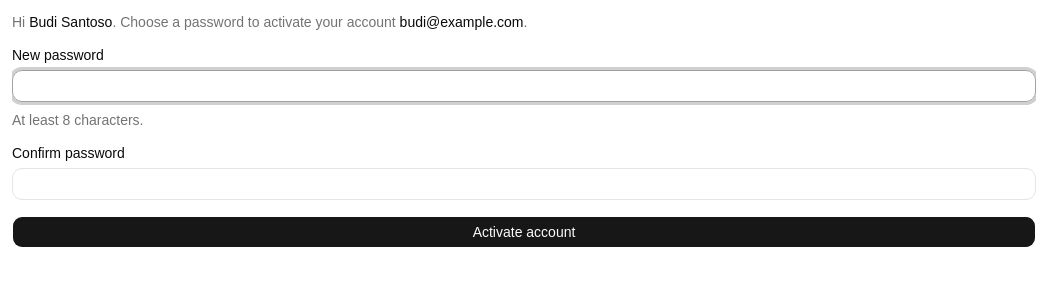
it: SetPasswordForm › activates the account and then offers the sign-in links
Expected: the text "budi@example.com" is shown, top-left (400, 14), bottom-right (524, 30)
Type "BrandNew123!" into the password field labelled "New password".
click(524, 86); type("BrandNew123!")  # box top-left (12, 70), bottom-right (1036, 102)
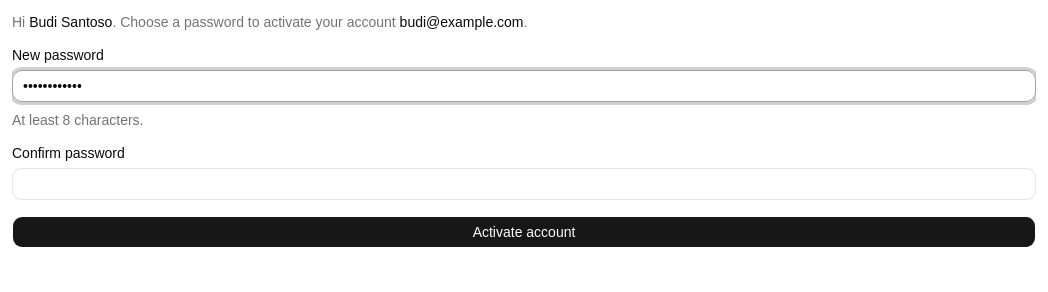
Type "Different123!" into the password field labelled "Confirm password".
click(524, 184); type("Different123!")  # box top-left (12, 168), bottom-right (1036, 200)
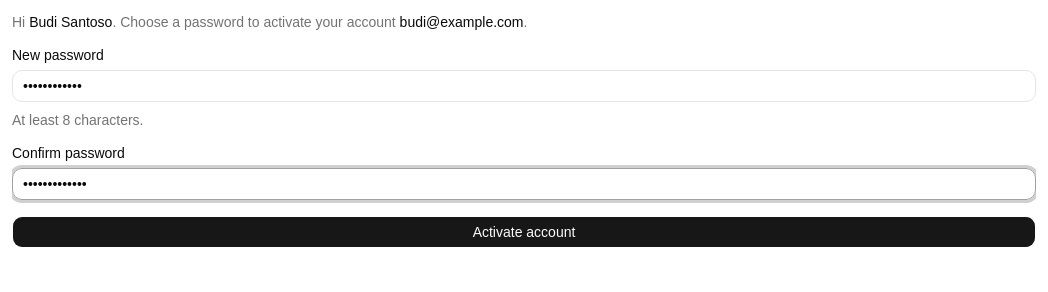
Click the button "Activate account".
click(524, 232)  # box top-left (12, 216), bottom-right (1036, 248)
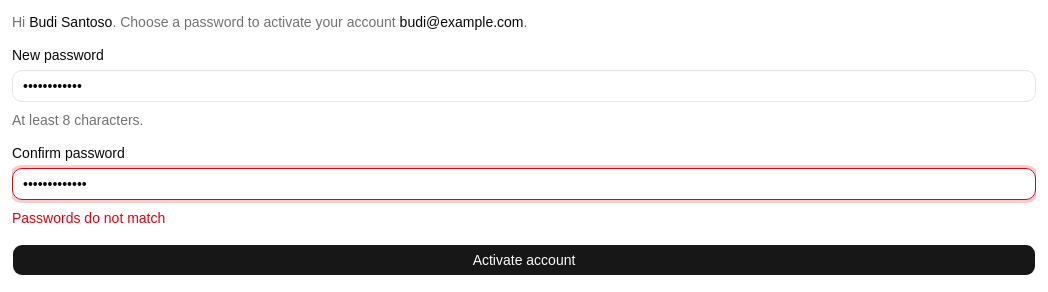
Expected: the text "Passwords do not match" is shown, top-left (12, 210), bottom-right (165, 226)
Type "BrandNew123!" into the password field labelled "Confirm password".
click(524, 184); type("BrandNew123!")  # box top-left (12, 168), bottom-right (1036, 200)
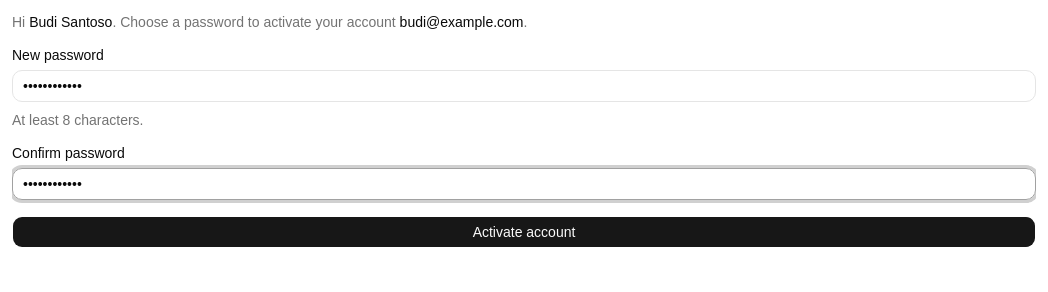
Click the button "Activate account".
click(524, 232)  # box top-left (12, 216), bottom-right (1036, 248)
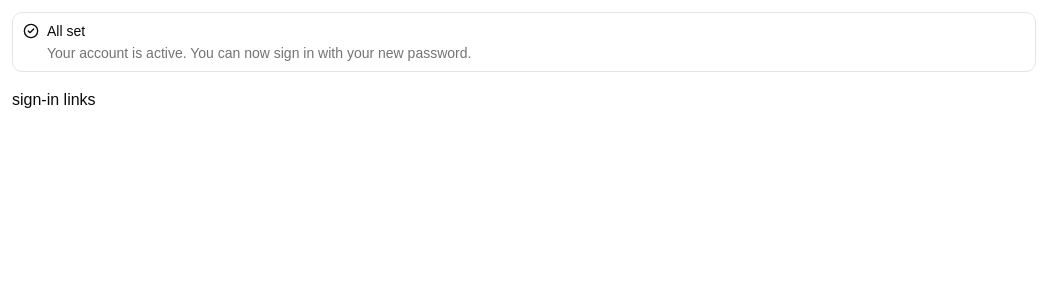
Expected: the text "sign-in links" is shown, top-left (12, 91), bottom-right (96, 108)
